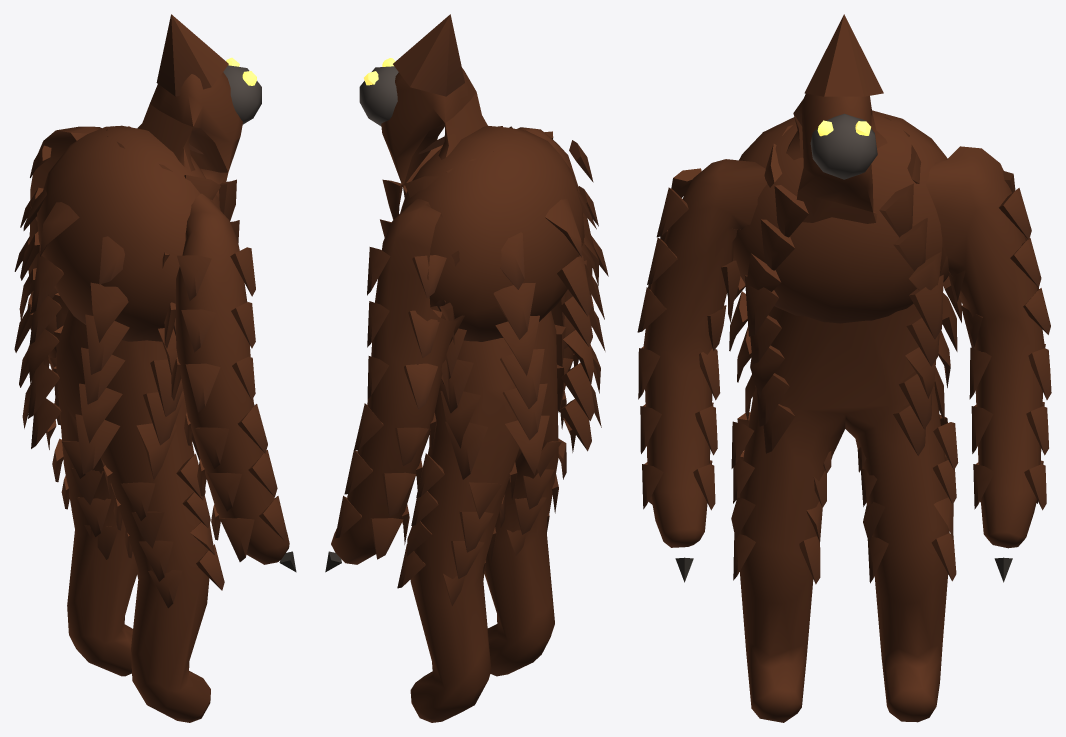
Rendered from sasquatch.glb.
3 views of the same model, side by side, from view 1: azimuth 30°, elevation 25°; view 2: azimuth 150°, elevation 25°; view 3: azimuth 270°, elevation 25° (orthographic). The views are drawn at different scales.
Parts seen in each view (by area): view 1: sasquatch.001; view 2: sasquatch.001; view 3: sasquatch.001.
Boxes of the visible parts, bbox=[...] form: sasquatch.001: bbox=[14, 14, 296, 722]; sasquatch.001: bbox=[325, 14, 608, 722]; sasquatch.001: bbox=[637, 14, 1051, 722].
Bounding box in the file's own units: 0.895 × 2.57 × 1.35.
